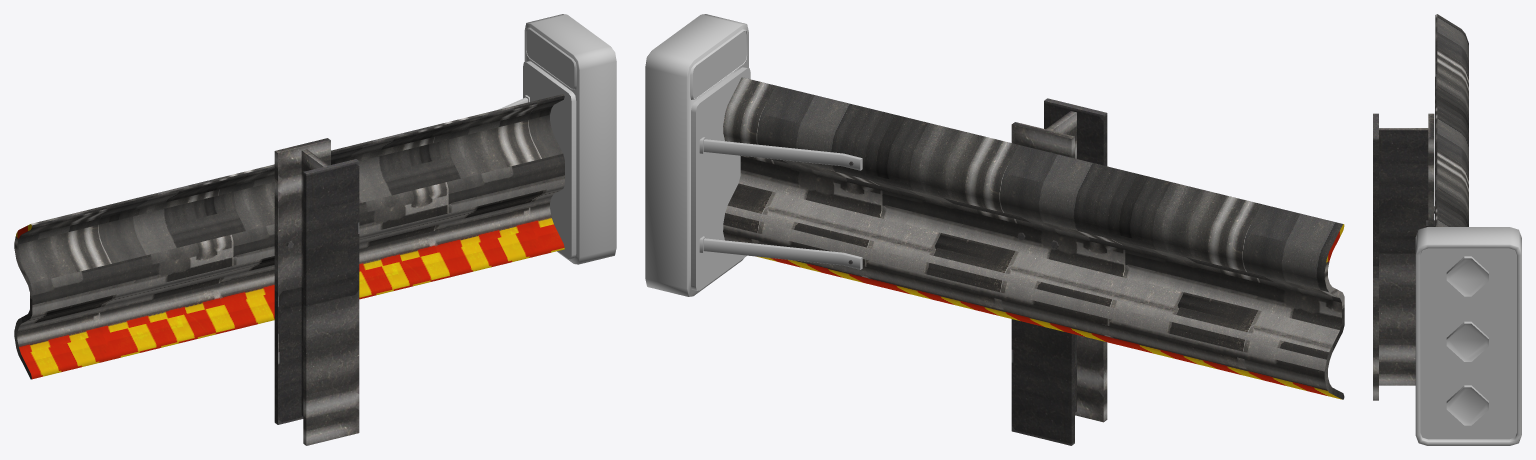
Rendered from Rail 7.FBX.
The picture shows the model from 3 angles, left to right: view 1: azimuth 30°, elevation 25°; view 2: azimuth 150°, elevation 25°; view 3: azimuth 270°, elevation 25°; orthographic projection. The views are drawn at different scales.
Parts seen in each view (by area): view 1: guardrail_endsign_left_a; view 2: guardrail_endsign_left_a; view 3: guardrail_endsign_left_a.
Part boxes in pixels (left/top/right/bottom): guardrail_endsign_left_a: left=14, top=14, right=616, bottom=445; guardrail_endsign_left_a: left=645, top=14, right=1344, bottom=445; guardrail_endsign_left_a: left=1373, top=14, right=1521, bottom=445.
Size of the model in its own units: 223 by 111 by 51.8.
